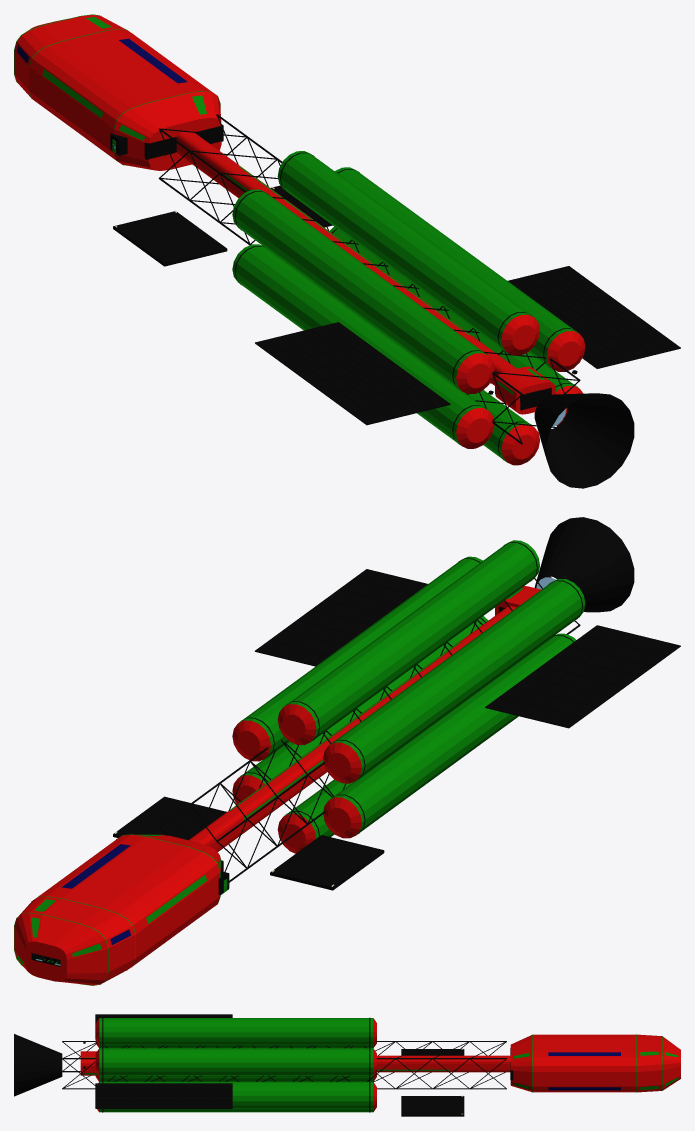
Rendered from caravan.glb.
3 views of the same model, one above another, from view 1: azimuth 30°, elevation 25°; view 2: azimuth 150°, elevation 25°; view 3: azimuth 270°, elevation 25° (orthographic). The views are drawn at different scales.
Visible parts, largest first — view 1: pioneer_caravan:propellant, pioneer_caravan:pressure_hull_0, pioneer_caravan:radiator_1, pioneer_caravan:engine_0, pioneer_caravan:radiator_2, pioneer_caravan:pressure_hull_1, pioneer_caravan:load_spine, pioneer_caravan:berth_External berth port, pioneer_caravan:radiator_cells_2, pioneer_caravan:inspection_panels_0, pioneer_caravan:pressure_hull_2, pioneer_caravan:radiator_cells_3 (+1 smaller); view 2: pioneer_caravan:propellant, pioneer_caravan:pressure_hull_0, pioneer_caravan:radiator_1, pioneer_caravan:radiator_2, pioneer_caravan:engine_0, pioneer_caravan:pressure_hull_1, pioneer_caravan:berth_External berth port, pioneer_caravan:load_spine, pioneer_caravan:berth_External berth starboard, pioneer_caravan:radiator_cells_2, pioneer_caravan:inspection_panels_0, pioneer_caravan:radiator_cells_3; view 3: pioneer_caravan:propellant, pioneer_caravan:pressure_hull_0, pioneer_caravan:radiator_2, pioneer_caravan:load_spine, pioneer_caravan:pressure_hull_1, pioneer_caravan:engine_0, pioneer_caravan:berth_External berth starboard, pioneer_caravan:inspection_panels_0, pioneer_caravan:radiator_cells_3, pioneer_caravan:radiator_1, pioneer_caravan:berth_External berth port, pioneer_caravan:pressure_hull_2 (+1 smaller).
Part boxes in pixels (box(x1,y1,x2,y2)): pioneer_caravan:propellant: box(232, 151, 585, 465); pioneer_caravan:pressure_hull_0: box(14, 15, 221, 170); pioneer_caravan:radiator_1: box(255, 322, 449, 425); pioneer_caravan:engine_0: box(534, 393, 634, 488); pioneer_caravan:radiator_2: box(508, 266, 680, 368); pioneer_caravan:pressure_hull_1: box(176, 130, 516, 385); pioneer_caravan:load_spine: box(158, 114, 580, 444); pioneer_caravan:berth_External berth port: box(113, 210, 227, 266); pioneer_caravan:radiator_cells_2: box(255, 322, 450, 424); pioneer_caravan:inspection_panels_0: box(17, 17, 206, 140); pioneer_caravan:pressure_hull_2: box(495, 366, 555, 414); pioneer_caravan:radiator_cells_3: box(508, 266, 680, 368); pioneer_caravan:propellant: box(232, 540, 585, 853); pioneer_caravan:pressure_hull_0: box(14, 834, 221, 985); pioneer_caravan:radiator_1: box(485, 625, 680, 728); pioneer_caravan:radiator_2: box(255, 569, 427, 666); pioneer_caravan:engine_0: box(534, 517, 634, 612); pioneer_caravan:pressure_hull_1: box(189, 606, 516, 851); pioneer_caravan:berth_External berth port: box(270, 835, 384, 890); pioneer_caravan:load_spine: box(158, 575, 580, 882); pioneer_caravan:berth_External berth starboard: box(113, 796, 226, 840); pioneer_caravan:radiator_cells_2: box(485, 625, 680, 727); pioneer_caravan:inspection_panels_0: box(16, 834, 221, 965); pioneer_caravan:radiator_cells_3: box(255, 569, 427, 666); pioneer_caravan:propellant: box(95, 1018, 376, 1112); pioneer_caravan:pressure_hull_0: box(510, 1034, 680, 1092); pioneer_caravan:radiator_2: box(95, 1083, 232, 1108); pioneer_caravan:load_spine: box(62, 1041, 506, 1089); pioneer_caravan:pressure_hull_1: box(376, 1055, 510, 1072); pioneer_caravan:engine_0: box(14, 1034, 62, 1096); pioneer_caravan:berth_External berth starboard: box(401, 1095, 464, 1116); pioneer_caravan:inspection_panels_0: box(513, 1051, 678, 1090); pioneer_caravan:radiator_cells_3: box(95, 1083, 232, 1108); pioneer_caravan:radiator_1: box(95, 1014, 232, 1022); pioneer_caravan:berth_External berth port: box(401, 1048, 464, 1055); pioneer_caravan:pressure_hull_2: box(80, 1051, 98, 1075).
Bounding box in the file's own units: 60.04 × 27.5 × 180.
